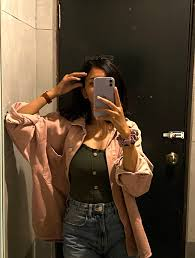Human_Female: (35, 62, 133, 251)
